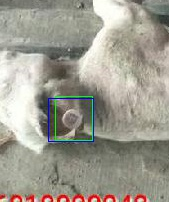text: (55, 96, 92, 140)
